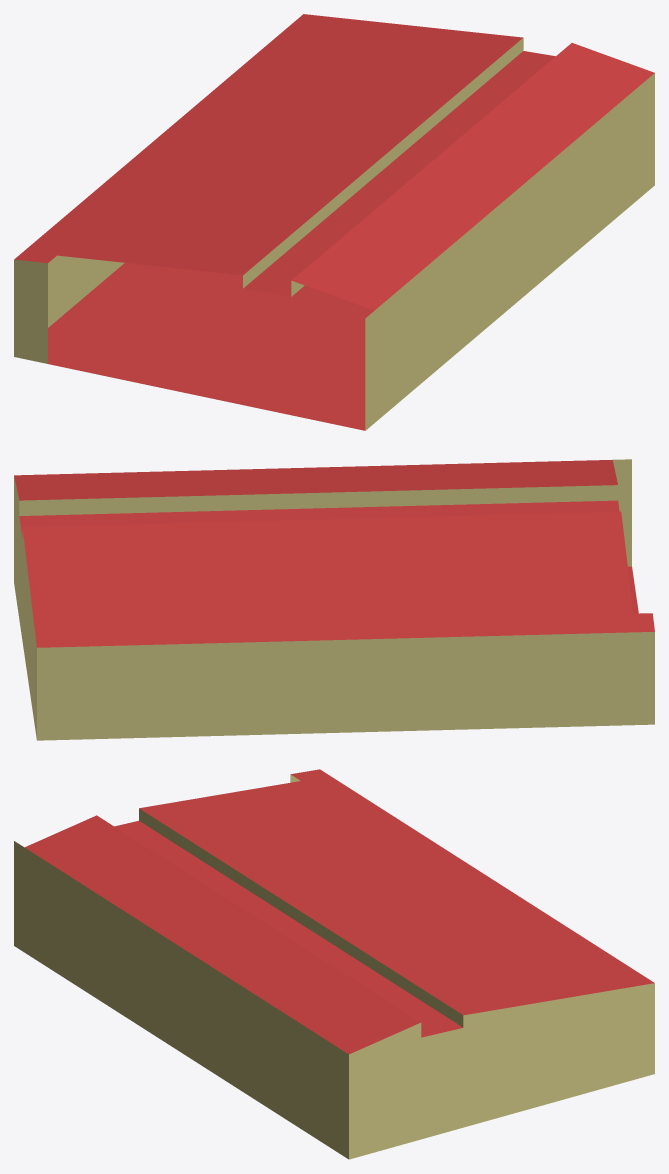
3 views of the same model, one above another, from view 1: azimuth 30°, elevation 25°; view 2: azimuth 150°, elevation 25°; view 3: azimuth 270°, elevation 25° (orthographic). The views are drawn at different scales.
Size of the model in its own units: 61.33 by 55.48 by 11.17.
